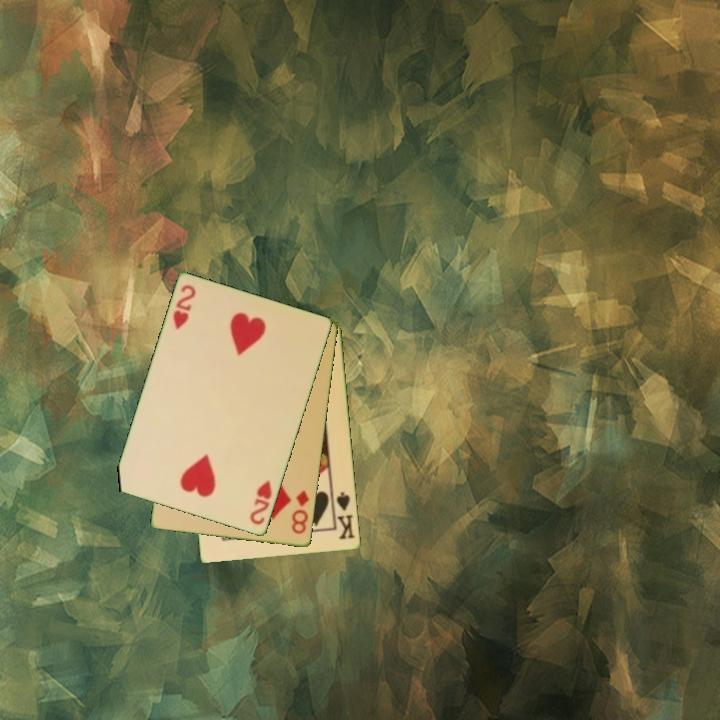2h: (169, 281, 199, 333), (247, 476, 275, 528)
8d: (289, 487, 312, 537)
Ks: (330, 489, 358, 543)
